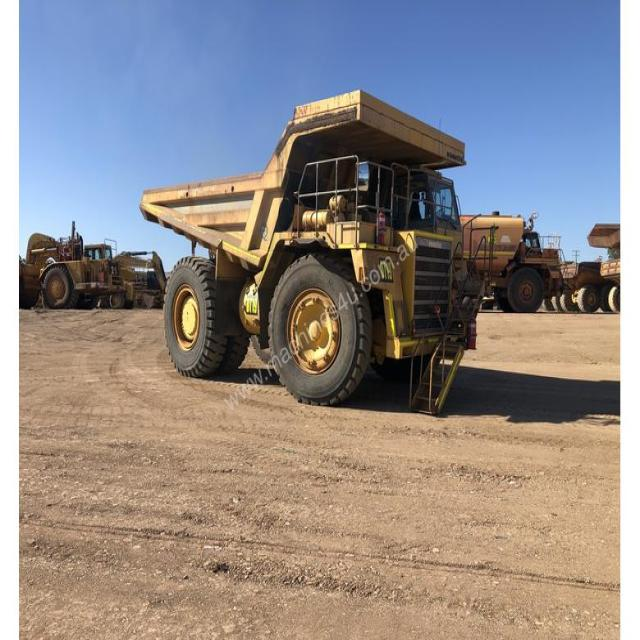dump_truck: (126, 85, 490, 417)
